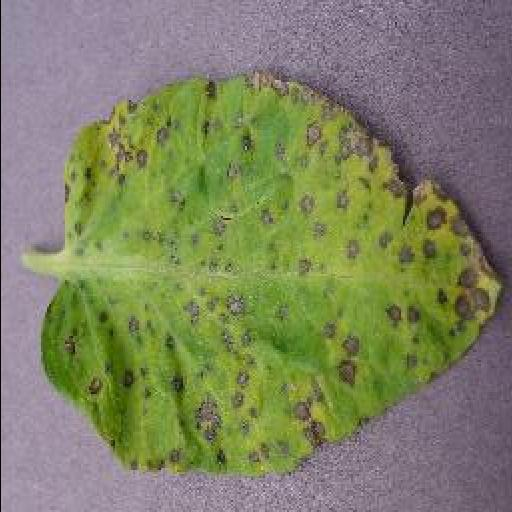disease_tomato: (40, 75, 504, 476)
